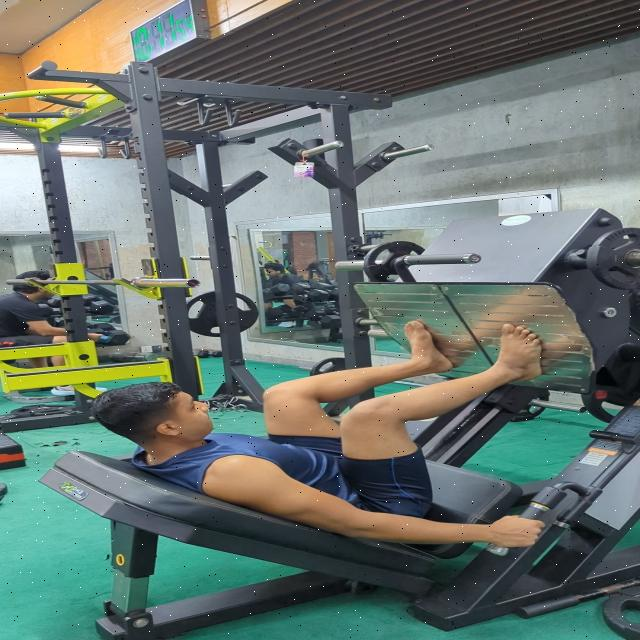Normal_LegPress: (77, 312, 604, 552)
